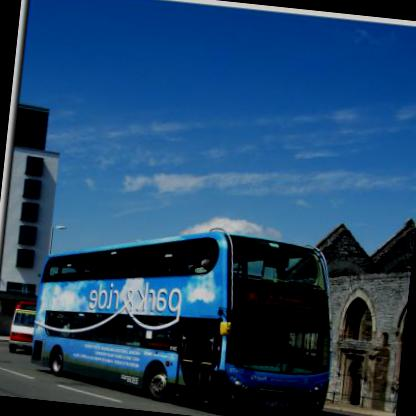bus: (27, 209, 347, 415), (7, 300, 38, 355)
